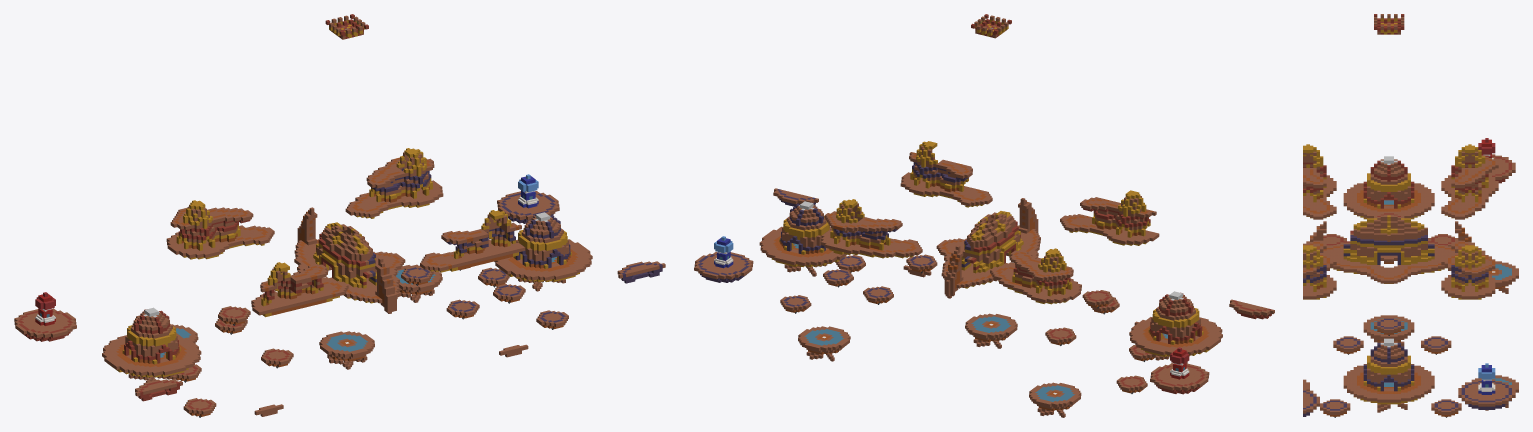
File: minecraft.obj
The picture shows the model from 3 angles, left to right: view 1: azimuth 30°, elevation 25°; view 2: azimuth 150°, elevation 25°; view 3: azimuth 270°, elevation 25°; orthographic projection. The views are drawn at different scales.
Bounding box in the file's own units: 180 × 107 × 64.
